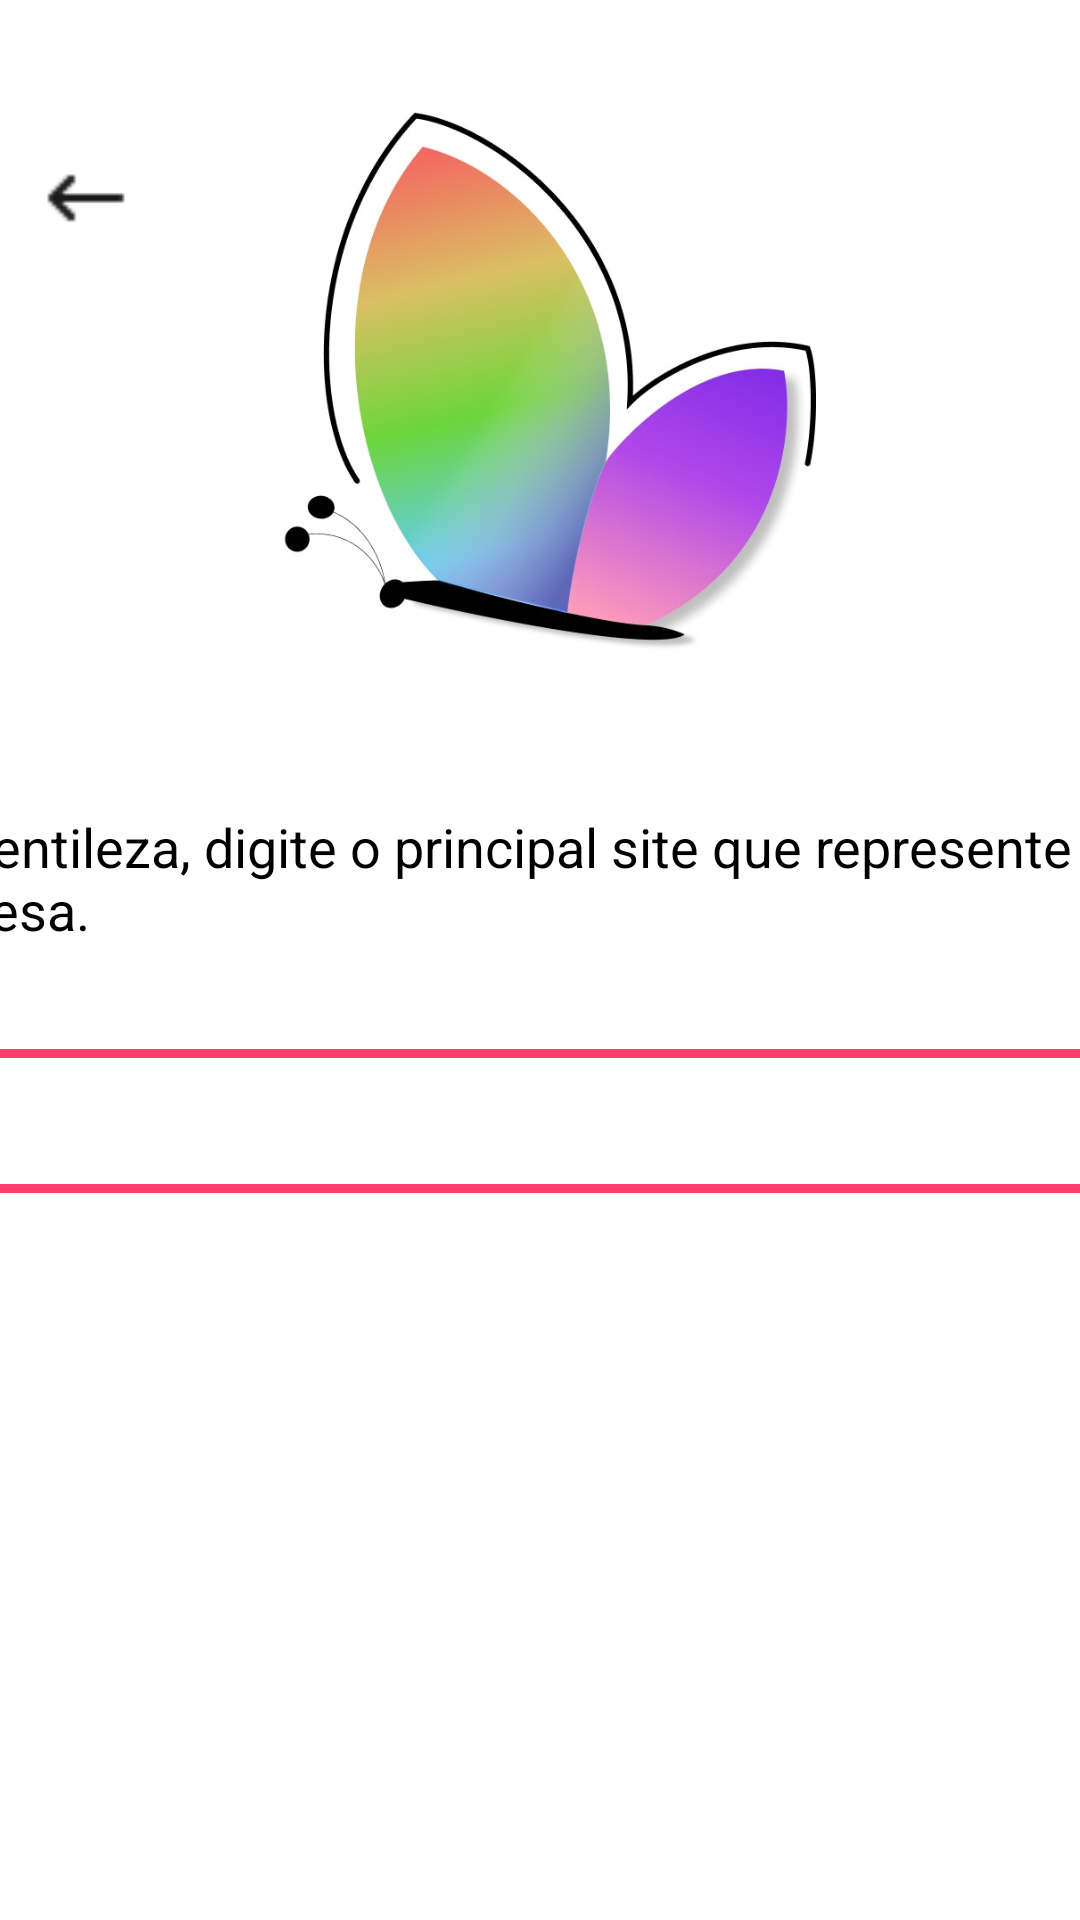

Where icons sit on this 1080*1920 app screen, as detection(x1, y1, x2, y2):
voltar seta: detection(47, 174, 125, 222)
